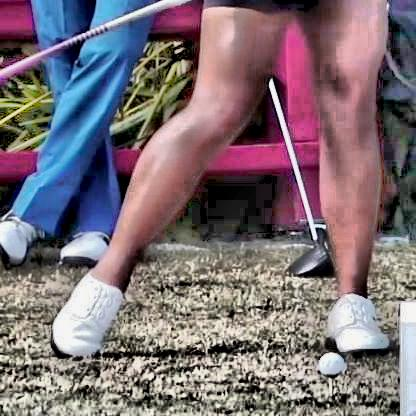golfball: (314, 348, 342, 377)
